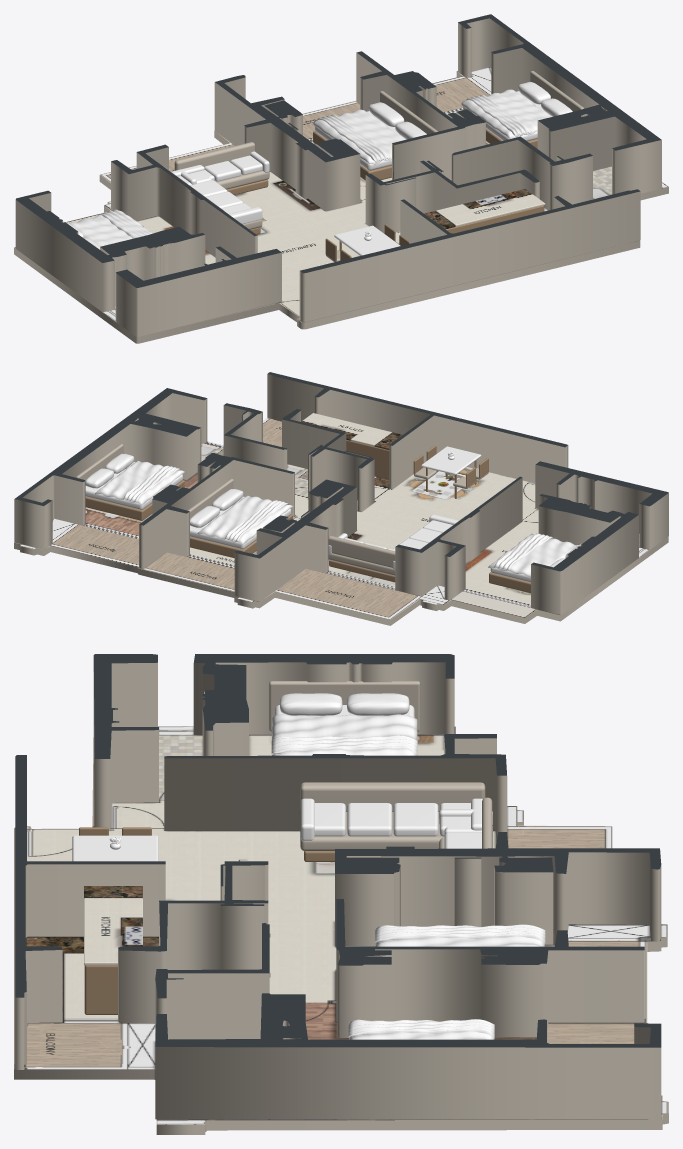
The picture shows the model from 3 angles, top to bottom: view 1: azimuth 30°, elevation 25°; view 2: azimuth 150°, elevation 25°; view 3: azimuth 270°, elevation 25°; orthographic projection. The views are drawn at different scales.
Parts seen in each view (by area): view 1: Partition walls, Apartment floor, Stone worktop, Draped bed linen.002, Draped bed linen.004, Draped bed linen, Marble dining top, Sofa back.001, Draped bed linen.003, Draped bed linen.005, Kitchen cabinets, Upholstered headboard.001 (+5 smaller); view 2: Partition walls, Apartment floor, Draped bed linen.002, Draped bed linen.004, Stone worktop, Draped bed linen, Sofa back.001, Marble dining top, Walnut upholstered base.002, Kitchen cabinets, Draped bed linen.001, Draped bed linen.003 (+12 smaller); view 3: Partition walls, Apartment floor, Stone worktop, Draped bed linen, Sofa back, Upholstered headboard, Marble dining top, Draped bed linen.003, Draped bed linen.001, Upholstered sofa frame, Draped bed linen.005, Kitchen cabinets (+7 smaller).
Part boxes in pixels (bbox=[...]): Partition walls: bbox=[15, 14, 661, 336]; Apartment floor: bbox=[14, 67, 668, 343]; Stone worktop: bbox=[424, 189, 545, 229]; Draped bed linen.002: bbox=[312, 109, 405, 164]; Draped bed linen.004: bbox=[460, 89, 550, 138]; Draped bed linen: bbox=[69, 210, 153, 246]; Marble dining top: bbox=[334, 225, 400, 255]; Sofa back.001: bbox=[174, 142, 255, 170]; Draped bed linen.003: bbox=[317, 114, 390, 162]; Draped bed linen.005: bbox=[466, 94, 531, 137]; Kitchen cabinets: bbox=[445, 205, 544, 233]; Upholstered headboard.001: bbox=[380, 91, 437, 134]; Partition walls: bbox=[14, 372, 668, 614]; Apartment floor: bbox=[14, 417, 668, 625]; Draped bed linen.002: bbox=[197, 495, 293, 544]; Draped bed linen.004: bbox=[95, 460, 185, 505]; Stone worktop: bbox=[301, 413, 402, 449]; Draped bed linen: bbox=[488, 533, 578, 577]; Sofa back.001: bbox=[328, 536, 395, 567]; Marble dining top: bbox=[421, 446, 481, 474]; Walnut upholstered base.002: bbox=[85, 480, 184, 520]; Kitchen cabinets: bbox=[346, 440, 389, 479]; Draped bed linen.001: bbox=[493, 533, 553, 571]; Draped bed linen.003: bbox=[224, 500, 288, 542]; Partition walls: bbox=[15, 654, 661, 1119]; Apartment floor: bbox=[14, 726, 668, 1134]; Stone worktop: bbox=[84, 886, 142, 965]; Draped bed linen: bbox=[272, 714, 417, 755]; Sofa back: bbox=[300, 782, 485, 811]; Upholstered headboard: bbox=[269, 681, 420, 731]; Marble dining top: bbox=[72, 835, 158, 861]; Draped bed linen.003: bbox=[375, 924, 545, 943]; Draped bed linen.001: bbox=[271, 735, 417, 755]; Upholstered sofa frame: bbox=[300, 811, 444, 851]; Draped bed linen.005: bbox=[348, 1019, 494, 1038]; Kitchen cabinets: bbox=[84, 965, 117, 1014].
Bounding box in the file's own units: 13.49 × 1.3 × 9.37.
Materials: 9 (1 with a texture image).
